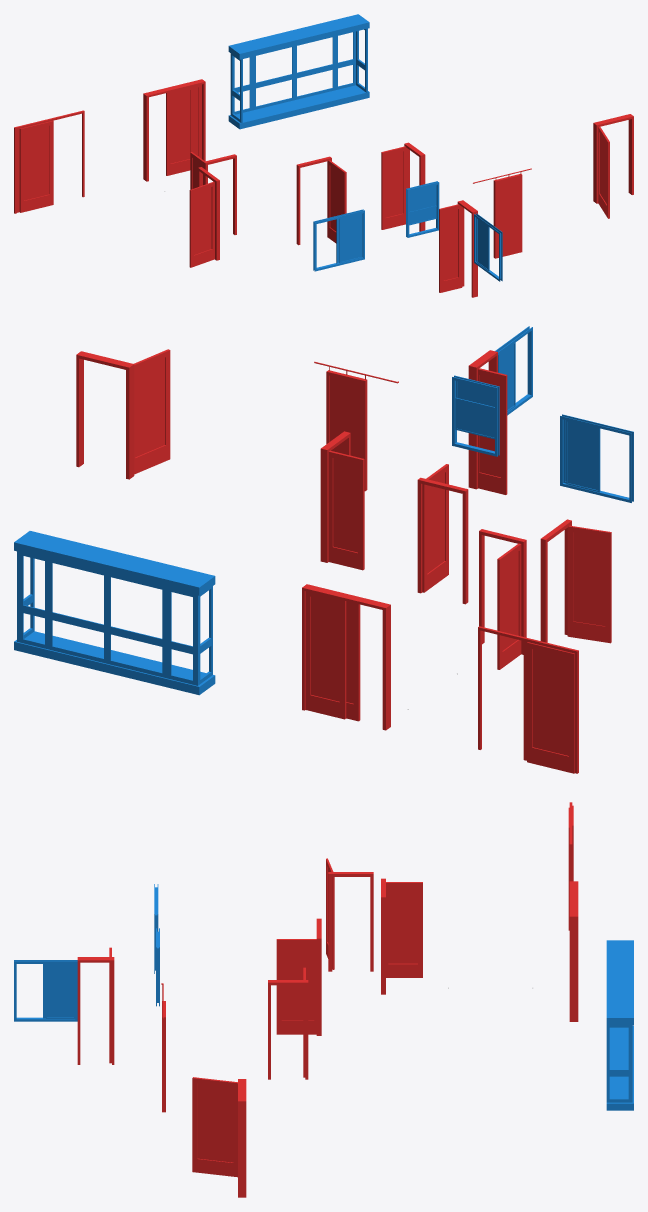
File: door.obj
3 renders of one model, top to bottom at view 1: azimuth 30°, elevation 25°; view 2: azimuth 150°, elevation 25°; view 3: azimuth 270°, elevation 25°, orthographic. The views are drawn at different scales.
Visible parts, largest first — view 1: 客厅飘窗, 二卧_阳台门, 主卧_阳台门, 厨房_阳台门, 主卧_门, 次卫_门, 厨房_谷仓门, 大门, 三卧_窗, 三卧_门, 次卫_窗, 厨房_窗 (+1 smaller); view 2: 客厅飘窗, 二卧_阳台门, 主卧_阳台门, 主卧_门, 大门, 次卫_门, 三卧_门, 二卧_门, 三卧_窗, 厨房_谷仓门, 厨房_阳台门, 次卫_窗 (+1 smaller); view 3: 大门, 客厅飘窗, 三卧_门, 二卧_门, 厨房_窗, 主卧_门, 二卧_阳台门, 厨房_阳台门, 次卫_门, 主卧_阳台门.
Part boxes in pixels (<box>): 客厅飘窗: <box>228,14,369,129</box>; 二卧_阳台门: <box>143,79,205,181</box>; 主卧_阳台门: <box>14,110,84,213</box>; 厨房_阳台门: <box>439,200,477,297</box>; 主卧_门: <box>189,167,219,267</box>; 次卫_门: <box>381,142,425,231</box>; 厨房_谷仓门: <box>473,168,531,258</box>; 大门: <box>593,114,633,218</box>; 三卧_窗: <box>313,209,364,271</box>; 三卧_门: <box>296,156,346,245</box>; 次卫_窗: <box>406,181,439,237</box>; 厨房_窗: <box>474,213,502,281</box>; 客厅飘窗: <box>14,531,215,695</box>; 二卧_阳台门: <box>302,584,390,730</box>; 主卧_阳台门: <box>478,626,578,773</box>; 主卧_门: <box>540,519,611,643</box>; 大门: <box>76,349,170,479</box>; 次卫_门: <box>320,431,364,570</box>; 三卧_门: <box>417,464,468,604</box>; 二卧_门: <box>479,529,526,669</box>; 三卧_窗: <box>560,414,633,502</box>; 厨房_谷仓门: <box>314,361,398,491</box>; 厨房_阳台门: <box>468,350,507,494</box>; 次卫_窗: <box>452,375,499,456</box>; 大门: <box>192,1077,246,1197</box>; 客厅飘窗: <box>606,940,633,1110</box>; 三卧_门: <box>276,918,321,1035</box>; 二卧_门: <box>381,878,422,994</box>; 厨房_窗: <box>14,960,77,1021</box>; 主卧_门: <box>326,858,373,971</box>; 二卧_阳台门: <box>569,881,578,1021</box>; 厨房_阳台门: <box>77,947,114,1064</box>; 次卫_门: <box>268,967,308,1079</box>; 主卧_阳台门: <box>568,802,573,930</box>.
Bounding box in the file's own units: 547 × 100 × 494.
